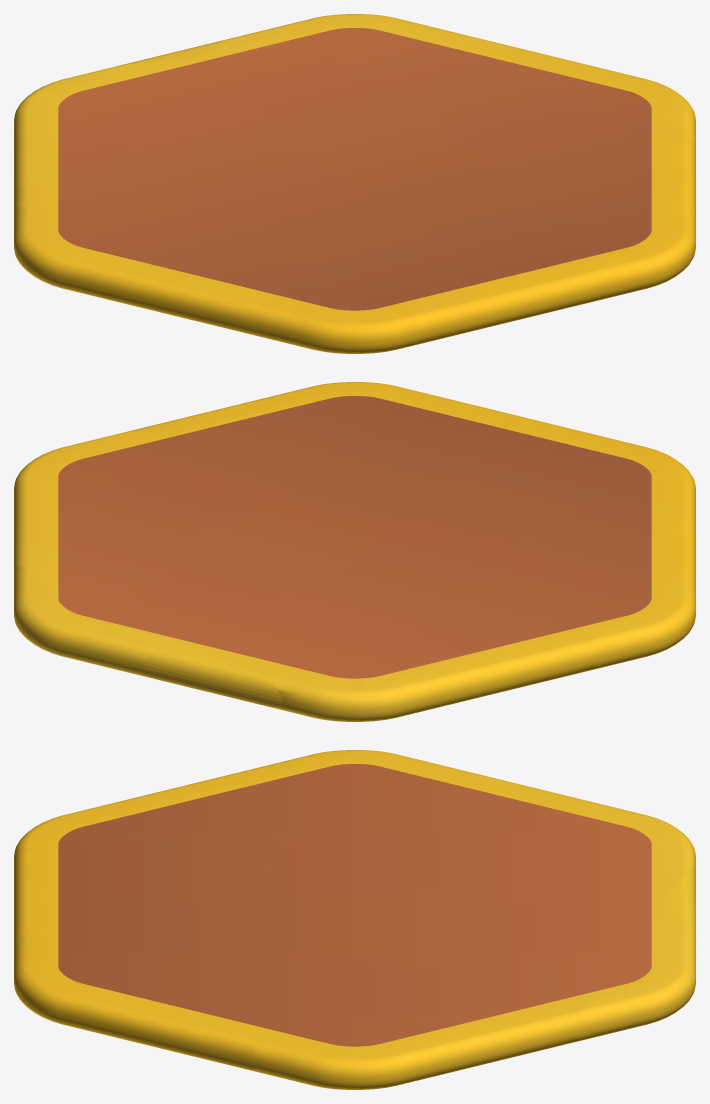
Rendered from wooden broken new.fbx.
3 renders of one model, top to bottom at view 1: azimuth 30°, elevation 25°; view 2: azimuth 150°, elevation 25°; view 3: azimuth 270°, elevation 25°, orthographic.
Visible parts, largest first — view 1: Cylinder.137, Cylinder.122, Cylinder.075, Cylinder.141, Cylinder.123, Cylinder.129, Cylinder.120, Cylinder.127, Cylinder.132, Cylinder.128, Cylinder.130, Cylinder.069 (+28 smaller); view 2: Cylinder.122, Cylinder.137, Cylinder.075, Cylinder.069, Cylinder.123, Cylinder.078, Cylinder.067, Cylinder.127, Cylinder.120, Cylinder.132, Cylinder.128, Cylinder.130 (+28 smaller); view 3: Cylinder.137, Cylinder.075, Cylinder.122, Cylinder.120, Cylinder.121, Cylinder.127, Cylinder.077, Cylinder.132, Cylinder.128, Cylinder.141, Cylinder.130, Cylinder.067 (+28 smaller).
Part boxes in pixels (bbox=[...]): Cylinder.137: bbox=[545, 168, 695, 286]; Cylinder.122: bbox=[14, 133, 177, 200]; Cylinder.075: bbox=[329, 34, 488, 111]; Cylinder.141: bbox=[386, 239, 532, 340]; Cylinder.123: bbox=[14, 206, 136, 302]; Cylinder.129: bbox=[179, 264, 346, 346]; Cylinder.120: bbox=[513, 115, 695, 167]; Cylinder.127: bbox=[137, 185, 298, 263]; Cylinder.132: bbox=[300, 160, 474, 238]; Cylinder.128: bbox=[241, 148, 399, 217]; Cylinder.130: bbox=[226, 221, 385, 298]; Cylinder.069: bbox=[24, 56, 214, 101]; Cylinder.122: bbox=[389, 595, 556, 704]; Cylinder.137: bbox=[194, 382, 412, 449]; Cylinder.075: bbox=[29, 523, 236, 588]; Cylinder.069: bbox=[193, 629, 370, 721]; Cylinder.123: bbox=[594, 571, 695, 669]; Cylinder.078: bbox=[332, 616, 450, 721]; Cylinder.067: bbox=[14, 588, 151, 670]; Cylinder.127: bbox=[445, 533, 613, 595]; Cylinder.120: bbox=[87, 431, 256, 490]; Cylinder.132: bbox=[318, 458, 482, 533]; Cylinder.128: bbox=[304, 528, 485, 575]; Cylinder.130: bbox=[491, 470, 624, 536]; Cylinder.137: bbox=[15, 943, 221, 1053]; Cylinder.075: bbox=[416, 929, 601, 1008]; Cylinder.122: bbox=[391, 776, 593, 853]; Cylinder.120: bbox=[222, 970, 361, 1079]; Cylinder.121: bbox=[285, 1008, 418, 1089]; Cylinder.127: bbox=[226, 791, 390, 860]; Cylinder.077: bbox=[362, 976, 488, 1080]; Cylinder.132: bbox=[153, 860, 354, 923]; Cylinder.128: bbox=[283, 855, 435, 928]; Cylinder.141: bbox=[14, 860, 151, 919]; Cylinder.130: bbox=[93, 810, 278, 860]; Cylinder.067: bbox=[602, 935, 695, 1027].
Bounding box in the file's own units: 36.04 × 1.55 × 32.47.
